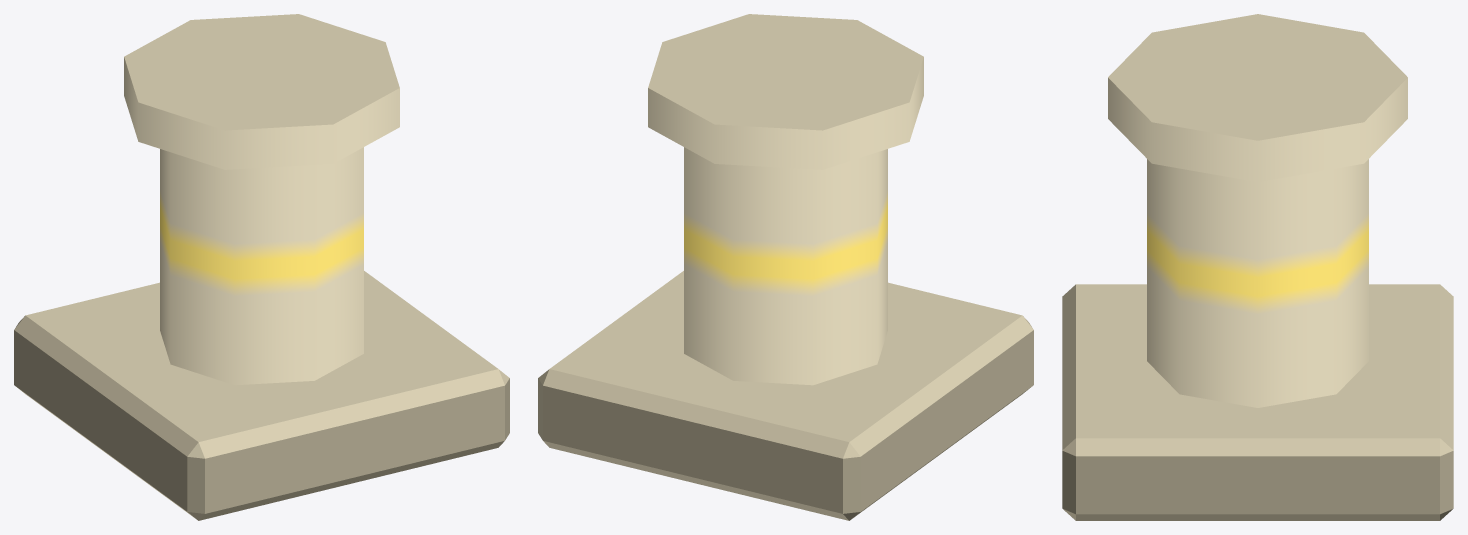
File: prop_pedestal_39db.glb
3 renders of one model, left to right at view 1: azimuth 30°, elevation 25°; view 2: azimuth 150°, elevation 25°; view 3: azimuth 270°, elevation 25°, orthographic. The views are drawn at different scales.
Parts seen in each view (by area): view 1: prop_pedestal_39db; view 2: prop_pedestal_39db; view 3: prop_pedestal_39db.
Boxes of the visible parts, x1,y1,x2,y2 form: prop_pedestal_39db: (14, 14, 509, 520); prop_pedestal_39db: (538, 14, 1033, 520); prop_pedestal_39db: (1062, 14, 1453, 520).
Size of the model in its own units: 0.5304 by 0.548 by 0.5304.
1 material, 1 textured.
